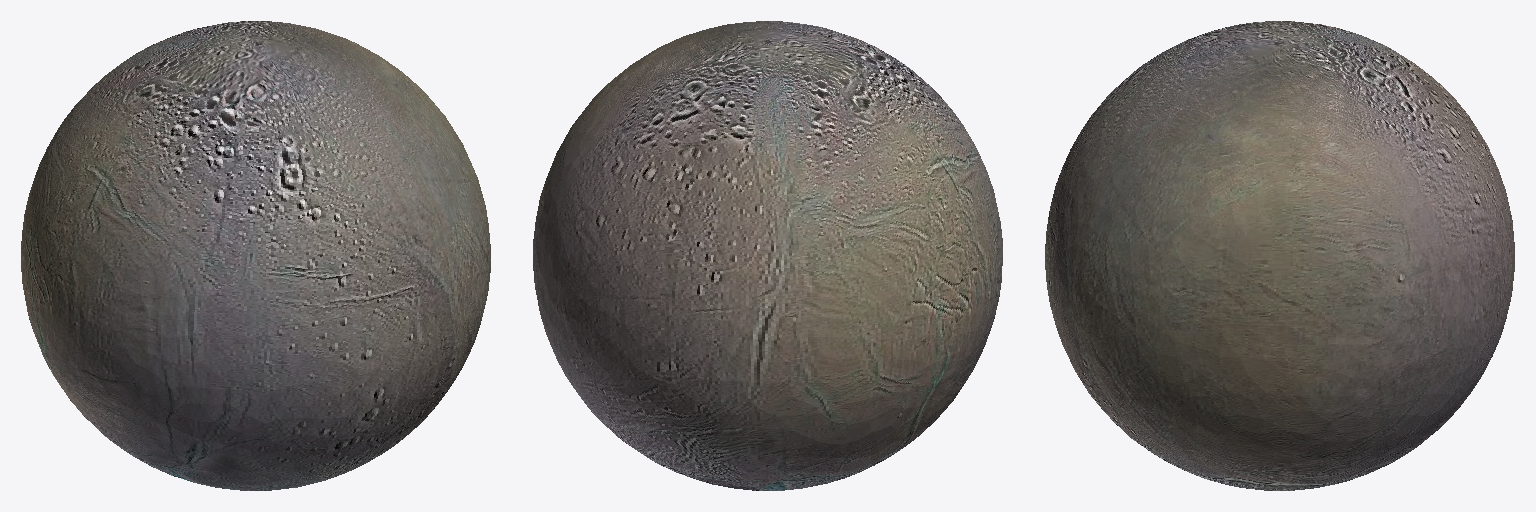
3 views of the same model, side by side, from view 1: azimuth 30°, elevation 25°; view 2: azimuth 150°, elevation 25°; view 3: azimuth 270°, elevation 25° (orthographic).
Visible parts, largest first — view 1: Moon_Sphere.001; view 2: Moon_Sphere.001; view 3: Moon_Sphere.001.
Boxes of the visible parts, x1,y1,x2,y2 form: Moon_Sphere.001: [21, 21, 490, 490]; Moon_Sphere.001: [533, 21, 1002, 490]; Moon_Sphere.001: [1045, 21, 1514, 490].
Size of the model in its own units: 2 by 2 by 2.
Materials: 1 (1 with a texture image).